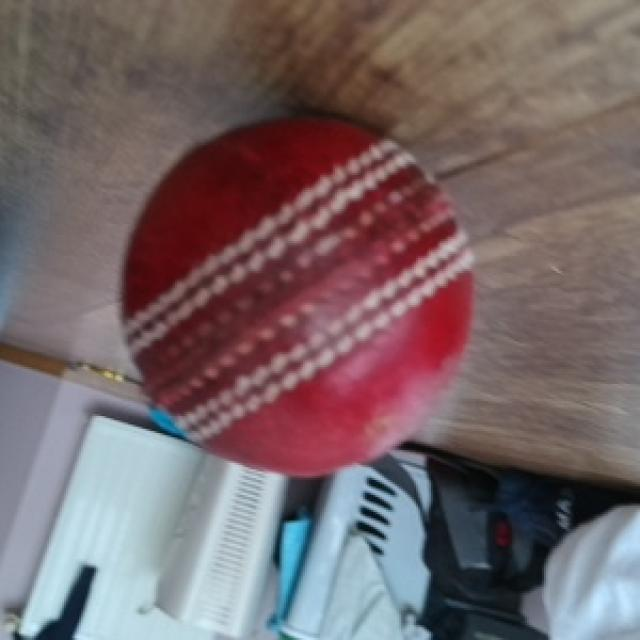ball: (115, 113, 478, 480)
